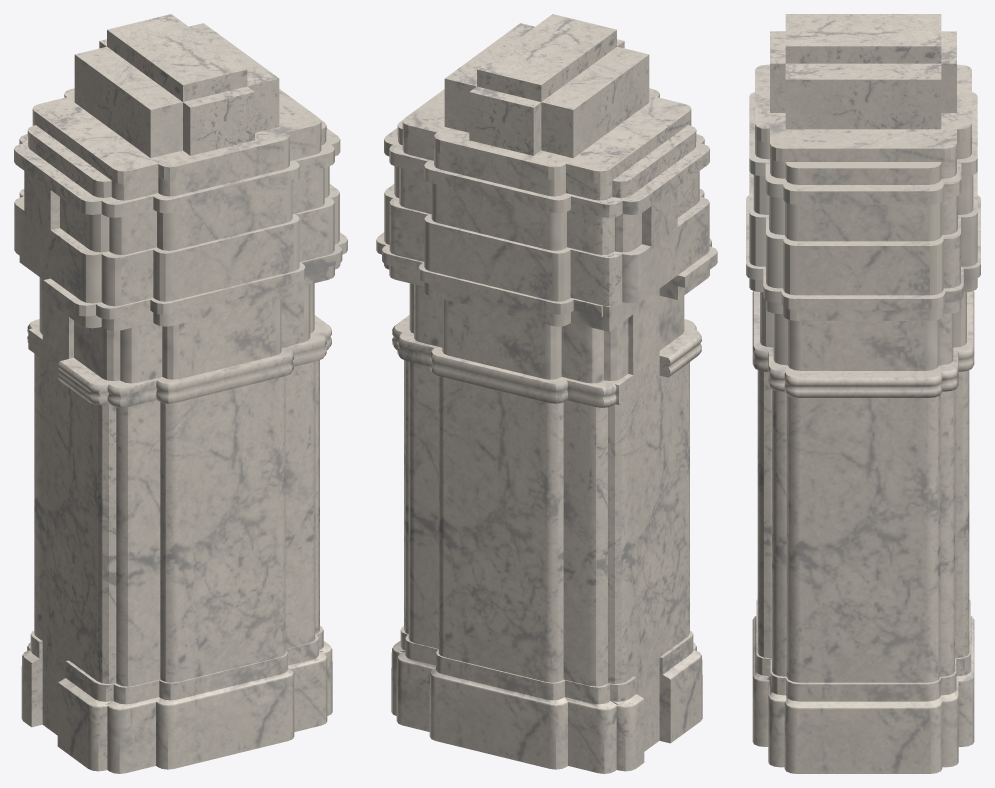
File: pillar_stairs_side_with_texture.fbx
The picture shows the model from 3 angles, left to right: view 1: azimuth 30°, elevation 25°; view 2: azimuth 150°, elevation 25°; view 3: azimuth 270°, elevation 25°; orthographic projection. The views are drawn at different scales.
Parts seen in each view (by area): view 1: stairs_pillar_UV_re; view 2: stairs_pillar_UV_re; view 3: stairs_pillar_UV_re.
Part boxes in pixels (x1,y1,x2,y2): stairs_pillar_UV_re: [14, 14, 347, 773]; stairs_pillar_UV_re: [376, 14, 717, 773]; stairs_pillar_UV_re: [746, 14, 980, 773].
Size of the model in its own units: 5.97 by 13.98 by 4.36.
1 material, 1 textured.
